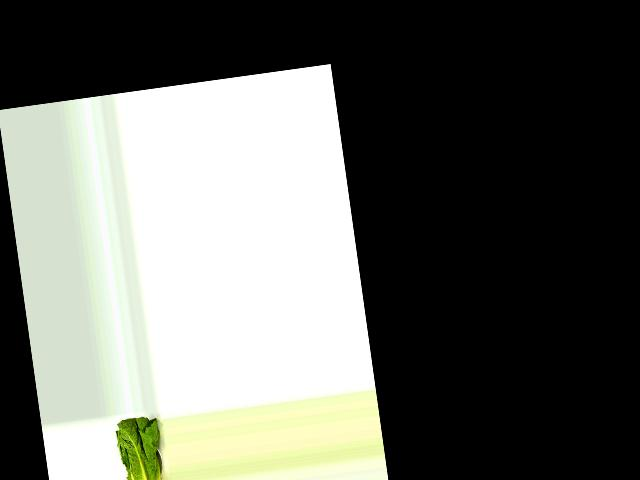lettuce: (112, 414, 168, 480)
